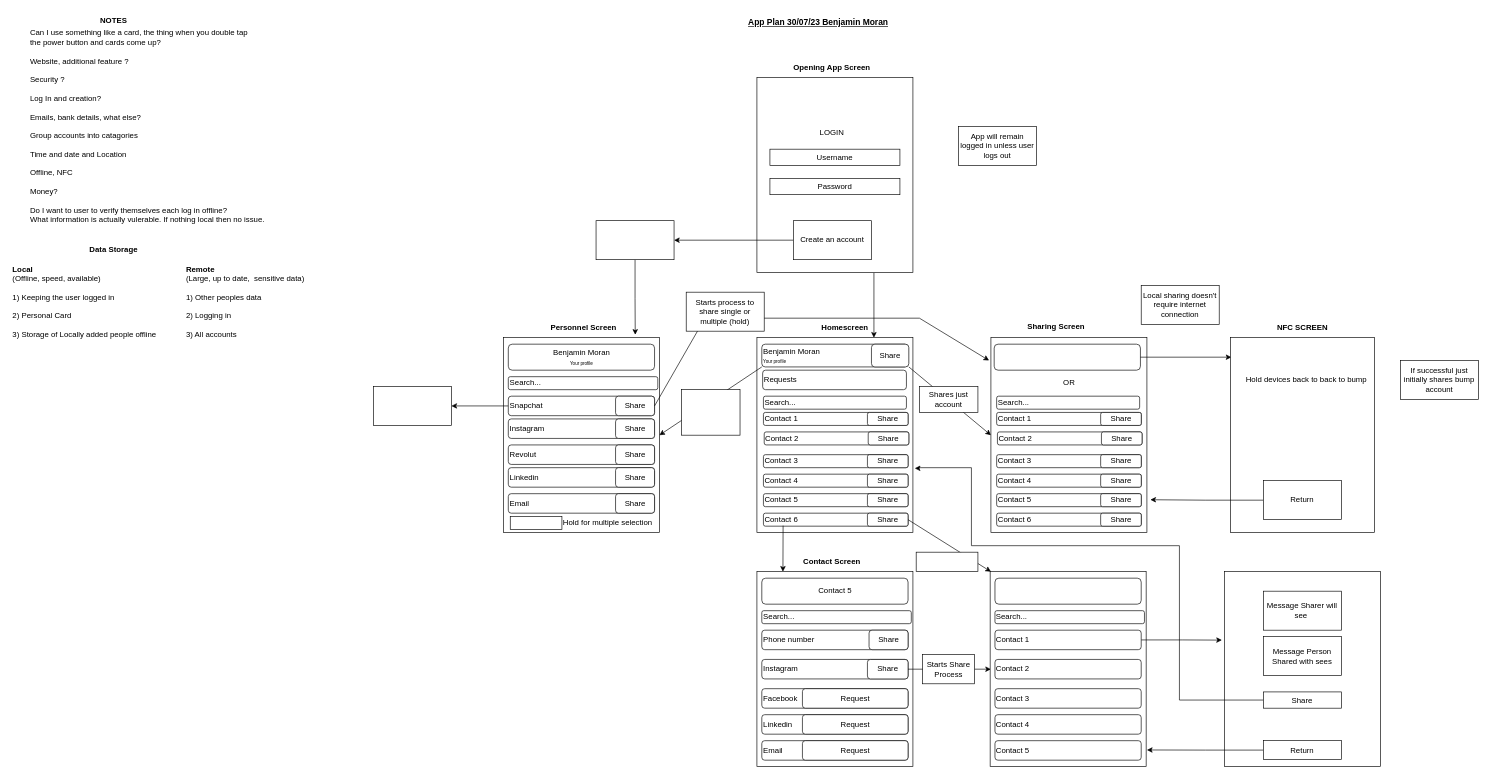
The diagram is 1490 pixels wide and 778 high, and some of its shapes have lost their labels. The centre of each missing label's shape, as x and y in pixels:
Add: the point at 536,522
Allows you to link your account / type in username: the point at 412,405
BUMP: the point at 1067,357
Edit and Change profile or unlock: the point at 710,412
Goes through account creation process: the point at 634,240
Share x with: the point at 1067,591
Shares Account: the point at 947,562
